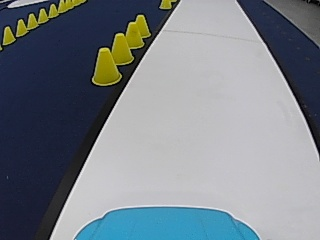cone: (90, 46, 121, 85), (109, 32, 133, 64), (123, 20, 143, 48), (132, 13, 151, 37), (2, 25, 15, 44), (15, 18, 28, 36), (27, 12, 38, 28), (37, 8, 48, 22), (48, 3, 58, 17), (159, 0, 171, 9)
